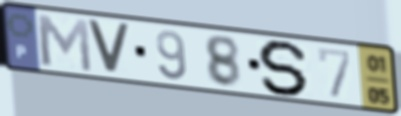7: (313, 45, 353, 102)
8: (202, 32, 244, 90)
9: (154, 28, 189, 83)
M: (33, 11, 95, 75)
S: (256, 38, 312, 98)
V: (84, 17, 133, 78)
